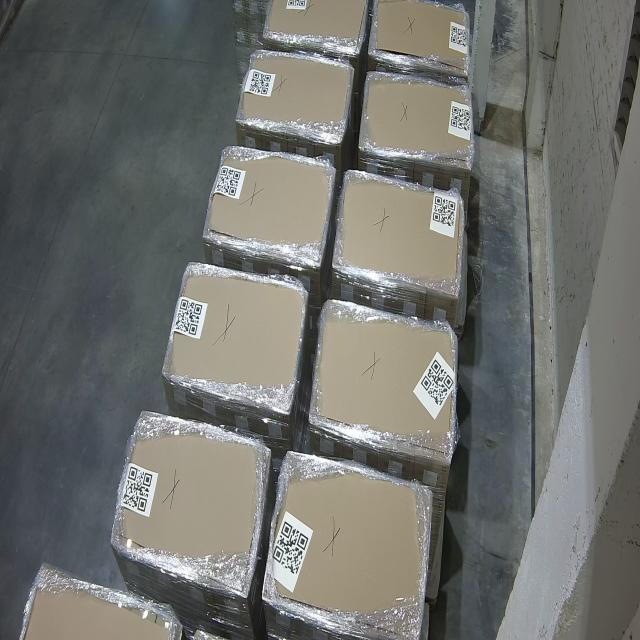pallet: (268, 450, 433, 640), (110, 407, 271, 594), (311, 297, 458, 449), (162, 265, 307, 410), (334, 170, 464, 297), (206, 143, 334, 259), (236, 48, 354, 142), (358, 70, 472, 162), (369, 0, 472, 85), (261, 0, 369, 54)
